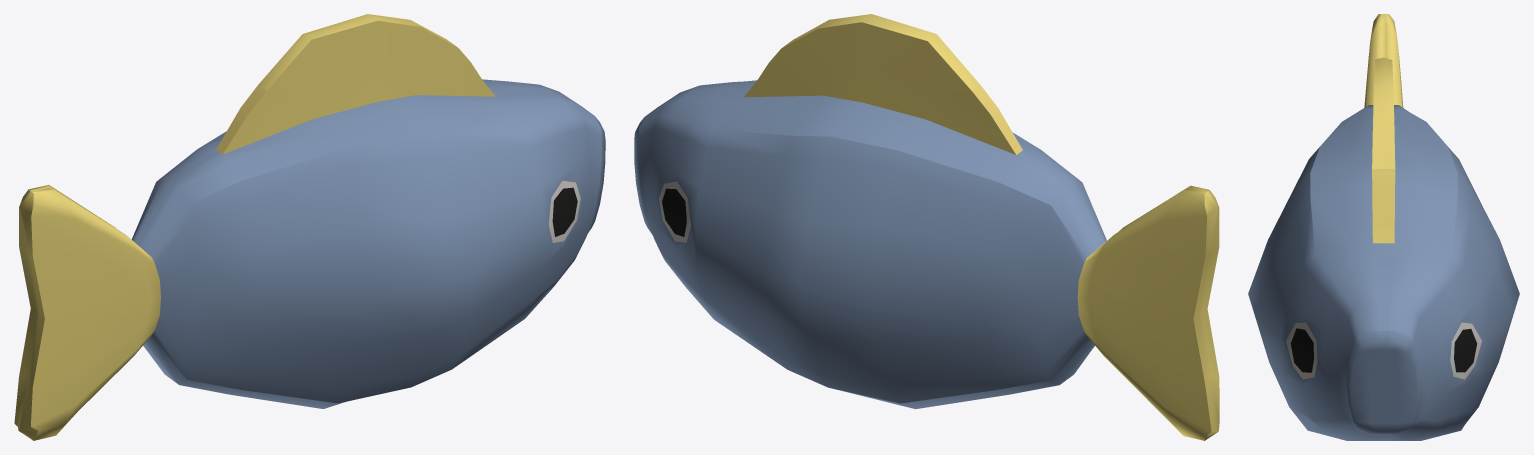
File: atoll_fish_2.fbx
3 views of the same model, side by side, from view 1: azimuth 30°, elevation 25°; view 2: azimuth 150°, elevation 25°; view 3: azimuth 270°, elevation 25° (orthographic). The views are drawn at different scales.
Parts seen in each view (by area): view 1: fish3; view 2: fish3; view 3: fish3.
Part boxes in pixels (bbox=[...]): fish3: bbox=[14, 14, 605, 440]; fish3: bbox=[634, 14, 1219, 440]; fish3: bbox=[1248, 14, 1519, 440].
Bounding box in the file's own units: 0.1008 × 0.0614 × 0.0427.
